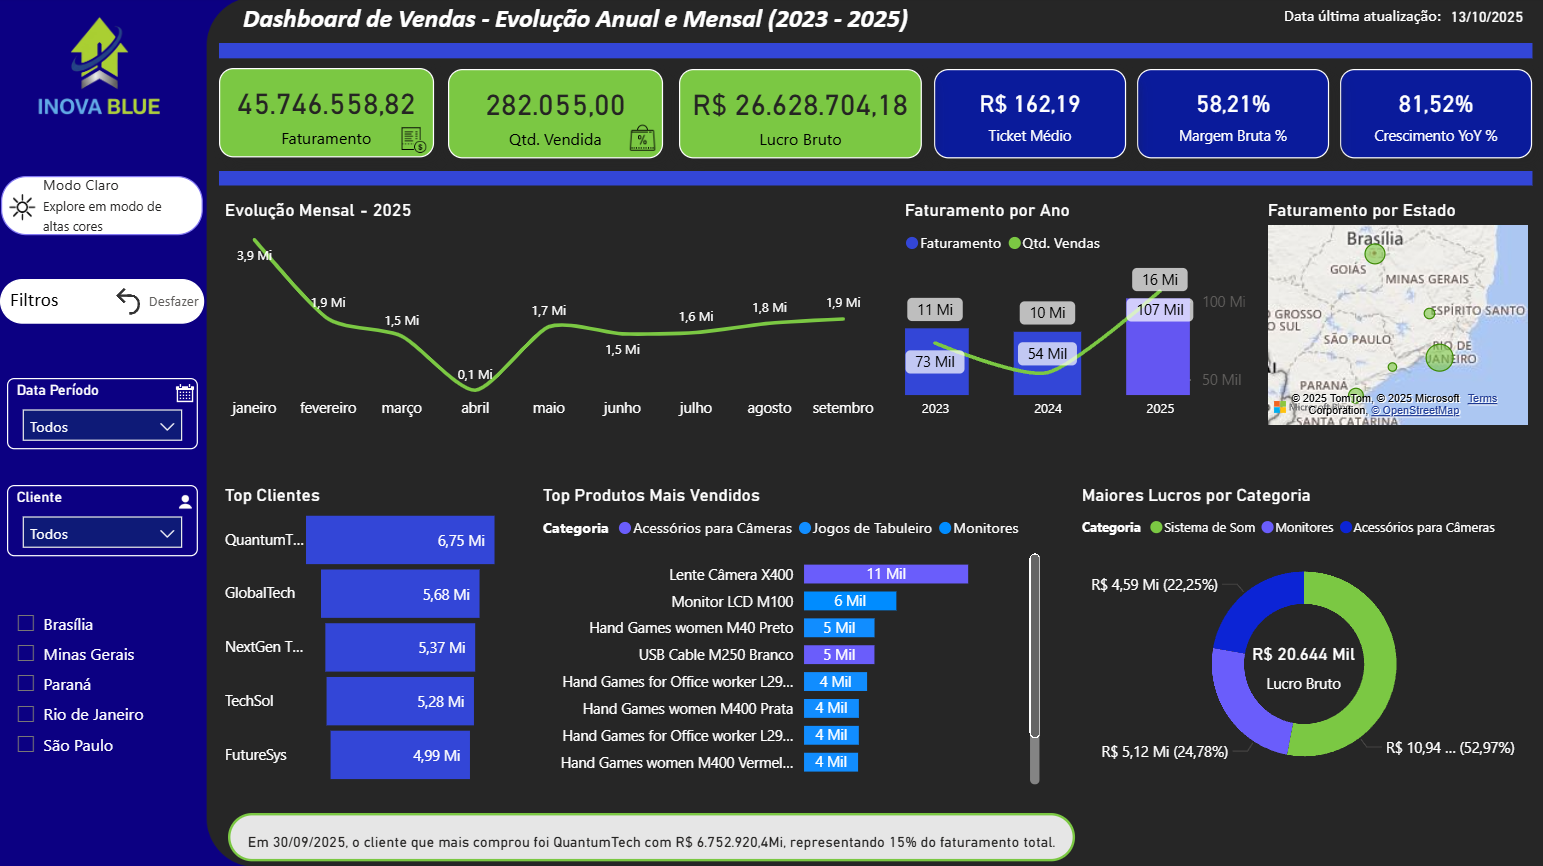

The page's visual inventory and layout, read from the dashboard file:
{"tool":"powerbi","page":{"name":"Dark","canvas":[1280,720],"ordinal":1},"visuals":[{"type":"shape","box":[2.6,148.4,166.8,49.2],"z":0},{"type":"lineClusteredColumnComboChart","title":"Faturamento por Ano","fields":{"Category":["Vendas.Data da Venda.Variation.Hierarquia de datas.Ano","Vendas.Data da Venda.Variation.Hierarquia de datas.Mês","Vendas.Data da Venda.Variation.Hierarquia de datas.Dia"],"Y":["Vendas.Faturamento"],"Y2":["Sum(Vendas.Qtd. Vendida)"]},"box":[745.9,168.1,290.7,190.4],"z":1000},{"type":"image","box":[3.5,8.8,160.7,99.2],"z":2000},{"type":"funnel","title":"Top Clientes","fields":{"Category":["Clientes.Nome Fantasia"],"Y":["Vendas.Faturamento"]},"box":[183,404.1,238,252.8],"z":3000},{"type":"textbox","box":[198,0,669.9,50.8],"z":4000},{"type":"lineChart","title":"Evolução Mensal - 2025","fields":{"Category":["Vendas.Data da Venda.Variation.Hierarquia de datas.Mês"],"Y":["Vendas.Faturamento"]},"box":[183,168.1,550.8,190.4],"z":5000},{"type":"card","fields":{"Values":["Vendas.Faturamento"]},"box":[182.9,58.9,177.5,74],"z":6000},{"type":"card","fields":{"Values":["Sum(Vendas.Qtd. Vendida)"]},"box":[372.4,59.2,177.7,74],"z":7000},{"type":"card","fields":{"Values":["Vendas.Crescimento YoY %"]},"box":[1110.7,59.2,158.7,74],"z":8000},{"type":"shape","box":[183,38.1,1087.5,12.7],"z":9000},{"type":"card","fields":{"Values":["Vendas.Media Faturamento Mensal"]},"box":[942.5,59.2,158.7,74],"z":10000},{"type":"card","fields":{"Values":["Vendas.Ticket Médio"]},"box":[774.3,59.2,158.7,74],"z":11000},{"type":"card","fields":{"Values":["Vendas.Lucro Bruto"]},"box":[563.8,59.2,201,74],"z":12000},{"type":"map","title":"Faturamento por Estado","fields":{"Category":["Vendas.Estado"],"Size":["Vendas.Faturamento"]},"box":[1046,167.8,224.7,190.6],"z":13000},{"type":"card","fields":{"Values":["Vendas.Insight Texto"]},"box":[190,675.2,701.1,40.1],"z":14000},{"type":"barChart","title":"Top Produtos Mais Vendidos","fields":{"Category":["Vendas.Produto"],"Series":["Vendas.Categoria"],"Y":["Sum(Vendas.Qtd. Vendida)"]},"box":[446.4,404.1,421,252.8],"z":15000},{"type":"shape","box":[183.3,143.9,1087.4,12.4],"z":16000},{"type":"donutChart","title":"Maiores Lucros por Categoria","fields":{"Category":["Vendas.Categoria"],"Y":["Vendas.Lucro Bruto"]},"box":[891.8,404.1,377.7,252.8],"z":17000},{"type":"card","fields":{"Values":["Vendas.Lucro Bruto"]},"box":[1027.2,525.8,106.8,54],"z":18000},{"type":"image","box":[516.2,97.3,33.9,38.1],"z":19000},{"type":"image","box":[324.8,97.3,34.9,38.1],"z":20000},{"type":"card","fields":{"Values":["Vendas.DataAtualizacaoHoje"]},"box":[1194.5,0,76.2,35.3],"z":21000},{"type":"textbox","box":[1058.9,1.1,173.5,36],"z":22000},{"type":"textbox","box":[9.3,235.9,78,31.6],"z":23000},{"type":"actionButton","box":[89.2,231.2,79,39],"z":24000},{"type":"slicer","fields":{"Values":["Vendas.Estado"]},"box":[3.7,500.7,164.4,177.4],"z":25000},{"type":"slicer","title":"     Data Período","fields":{"Values":["Vendas.Data da Venda.Variation.Hierarquia de datas.Ano","Vendas.Data da Venda.Variation.Hierarquia de datas.Mês","Vendas.Data da Venda.Variation.Hierarquia de datas.Dia"]},"box":[7.4,315,157.9,58.5],"z":26000},{"type":"slicer","title":"Cliente","fields":{"Values":["Clientes.Nome Fantasia"]},"box":[7.4,404.1,157.9,58.5],"z":27000},{"type":"shape","box":[1.9,233.1,169.1,37.2],"z":28000},{"type":"image","box":[136.5,402.3,36.2,26.9],"z":29000},{"type":"image","box":[132.8,315,42.7,25.1],"z":30000},{"type":"actionButton","box":[91.9,231.7,78.6,39.7],"z":31000},{"type":"textbox","box":[5.3,236.2,82.5,35.1],"z":32000},{"type":"textbox","box":[32.2,140.9,131.7,67.2],"z":33000},{"type":"image","box":[1.8,157.2,36.9,34.2],"z":34000},{"type":"actionButton","box":[4.1,144,165.5,57.9],"z":35000}]}

Visuals, with their boxes on the page's 1280x720 design canvas (x1, y1, x2, y2). These are canvas units, not pixel positions in the 1543x866 screenshot, which may show the page scaled, cropped or inside an application window:
shape: (3,148,169,198)
"Faturamento por Ano" lineClusteredColumnComboChart: (746,168,1037,358)
image: (4,9,164,108)
"Top Clientes" funnel: (183,404,421,657)
textbox: (198,0,868,51)
"Evolução Mensal - 2025" lineChart: (183,168,734,358)
card - Vendas.Faturamento: (183,59,360,133)
card - Sum(Vendas.Qtd. Vendida): (372,59,550,133)
card - Vendas.Crescimento YoY %: (1111,59,1269,133)
shape: (183,38,1270,51)
card - Vendas.Media Faturamento Mensal: (942,59,1101,133)
card - Vendas.Ticket Médio: (774,59,933,133)
card - Vendas.Lucro Bruto: (564,59,765,133)
"Faturamento por Estado" map: (1046,168,1271,358)
card - Vendas.Insight Texto: (190,675,891,715)
"Top Produtos Mais Vendidos" barChart: (446,404,867,657)
shape: (183,144,1271,156)
"Maiores Lucros por Categoria" donutChart: (892,404,1270,657)
card - Vendas.Lucro Bruto: (1027,526,1134,580)
image: (516,97,550,135)
image: (325,97,360,135)
card - Vendas.DataAtualizacaoHoje: (1194,0,1271,35)
textbox: (1059,1,1232,37)
textbox: (9,236,87,268)
actionButton: (89,231,168,270)
slicer - Vendas.Estado: (4,501,168,678)
"     Data Período" slicer: (7,315,165,374)
"Cliente" slicer: (7,404,165,463)
shape: (2,233,171,270)
image: (136,402,173,429)
image: (133,315,176,340)
actionButton: (92,232,170,271)
textbox: (5,236,88,271)
textbox: (32,141,164,208)
image: (2,157,39,191)
actionButton: (4,144,170,202)
